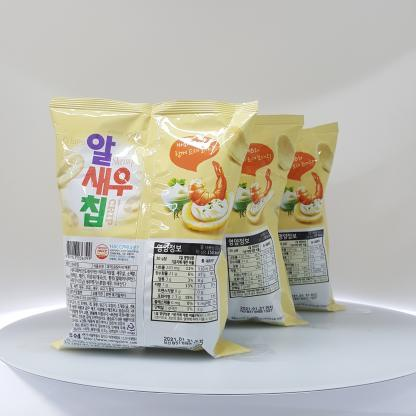Plastic Packaging: (44, 90, 356, 370)
